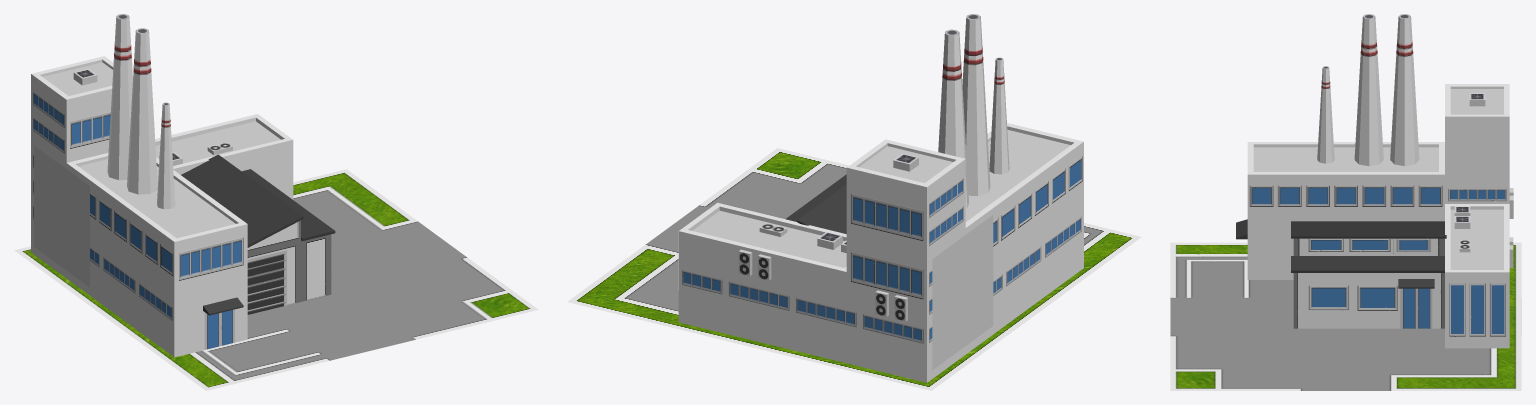
Rendered from Factory_Lvl_4.fbx.
The picture shows the model from 3 angles, left to right: view 1: azimuth 30°, elevation 25°; view 2: azimuth 150°, elevation 25°; view 3: azimuth 270°, elevation 25°; orthographic projection. The views are drawn at different scales.
Visible parts, largest first — view 1: Factory_Lvl_4, Factory_BG, Graffiti_001; view 2: Factory_Lvl_4, Factory_BG, Graffiti_001; view 3: Factory_Lvl_4, Factory_BG.
Boxes of the visible parts, bbox=[...] form: Factory_Lvl_4: bbox=[31, 14, 335, 357]; Factory_BG: bbox=[14, 169, 538, 390]; Graffiti_001: bbox=[34, 145, 89, 287]; Factory_Lvl_4: bbox=[678, 14, 1083, 382]; Factory_BG: bbox=[567, 148, 1141, 390]; Graffiti_001: bbox=[932, 215, 993, 369]; Factory_Lvl_4: bbox=[1236, 14, 1513, 348]; Factory_BG: bbox=[1170, 242, 1521, 390].
Size of the model in its own units: 2000 by 1547 by 2000.
